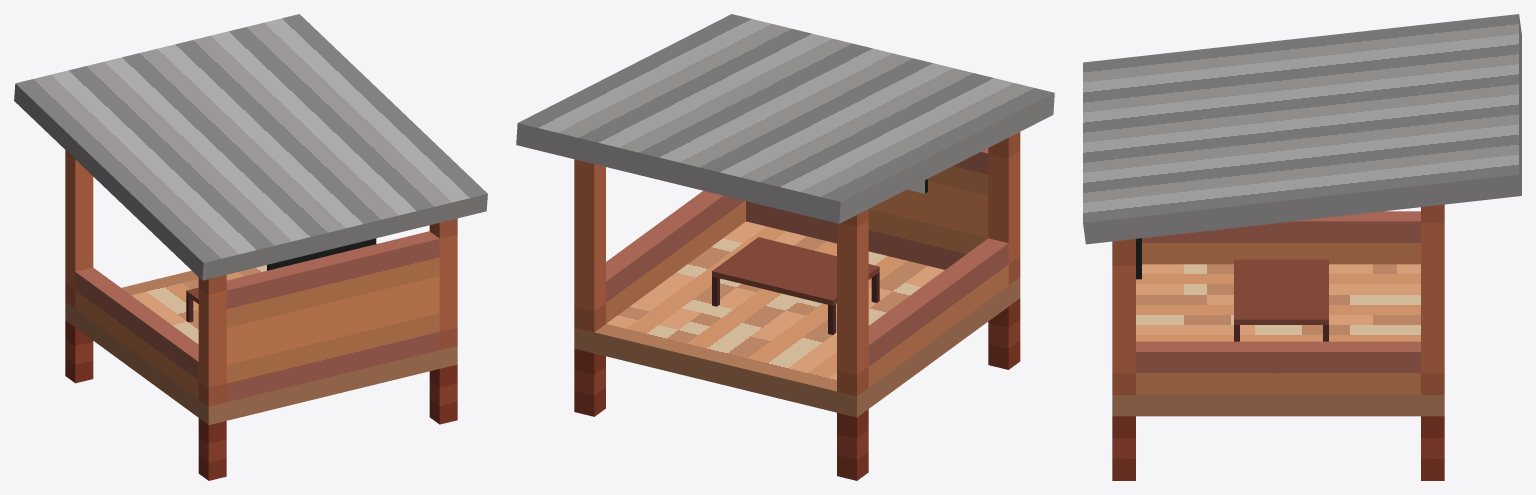
Rendered from Pos_Kamling.fbx.
3 renders of one model, left to right at view 1: azimuth 30°, elevation 25°; view 2: azimuth 150°, elevation 25°; view 3: azimuth 270°, elevation 25°, orthographic. The views are drawn at different scales.
Parts seen in each view (by area): view 1: Atap, cube_2, Lantai, cube_8, cube_9, cube_7, cube_1, cube_10, cube_12, cube_4, Papan; view 2: Atap, Lantai, cube_2, cube_8, cube_3, cube_7, cube_5, cube, cube_9, cube_4, cube_11, cube_10; view 3: Atap, Lantai, cube_3, cube_8, cube_5, cube, cube_1, cube_11, cube_12.
Part boxes in pixels (x1,y1,x2,y2): Atap: [14, 14, 487, 280]; cube_2: [226, 231, 439, 401]; Lantai: [65, 265, 457, 424]; cube_8: [75, 267, 198, 398]; cube_9: [198, 275, 226, 406]; cube_7: [65, 150, 93, 308]; cube_1: [429, 218, 457, 349]; cube_10: [198, 418, 226, 480]; cube_12: [429, 364, 457, 424]; cube_4: [65, 320, 93, 383]; Papan: [267, 238, 376, 270]; Atap: [516, 14, 1054, 223]; Lantai: [574, 221, 1020, 417]; cube_2: [746, 148, 988, 269]; cube_8: [868, 238, 1008, 387]; cube_3: [606, 191, 745, 323]; cube_7: [837, 209, 868, 396]; cube_5: [712, 237, 879, 305]; cube: [574, 159, 605, 332]; cube_9: [988, 132, 1020, 284]; cube_4: [837, 409, 868, 480]; cube_11: [574, 348, 605, 416]; cube_10: [988, 298, 1020, 369]; Atap: [1083, 14, 1521, 244]; Lantai: [1112, 264, 1444, 416]; cube_3: [1136, 341, 1420, 394]; cube_8: [1142, 211, 1420, 264]; cube_5: [1234, 259, 1328, 324]; cube: [1421, 204, 1444, 394]; cube_1: [1112, 239, 1135, 394]; cube_11: [1421, 416, 1444, 480]; cube_12: [1112, 416, 1135, 480].
Bounding box in the file's own units: 800 × 735 × 924.
Materials: 1 (1 with a texture image).
